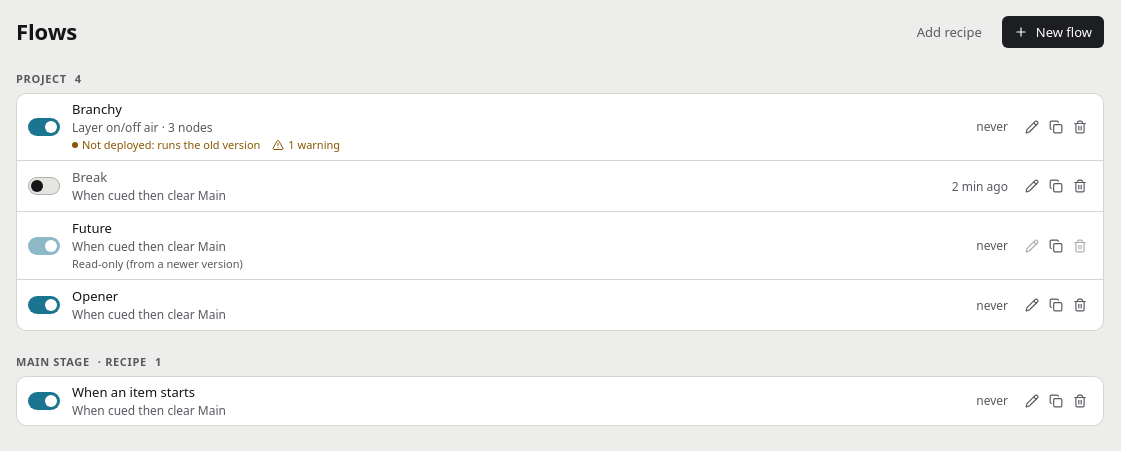
Test: /flows page › rename in place: Enter saves, Escape cancels
Click the button named "Rename Opener": (1032, 306) [1020,294,1044,318]
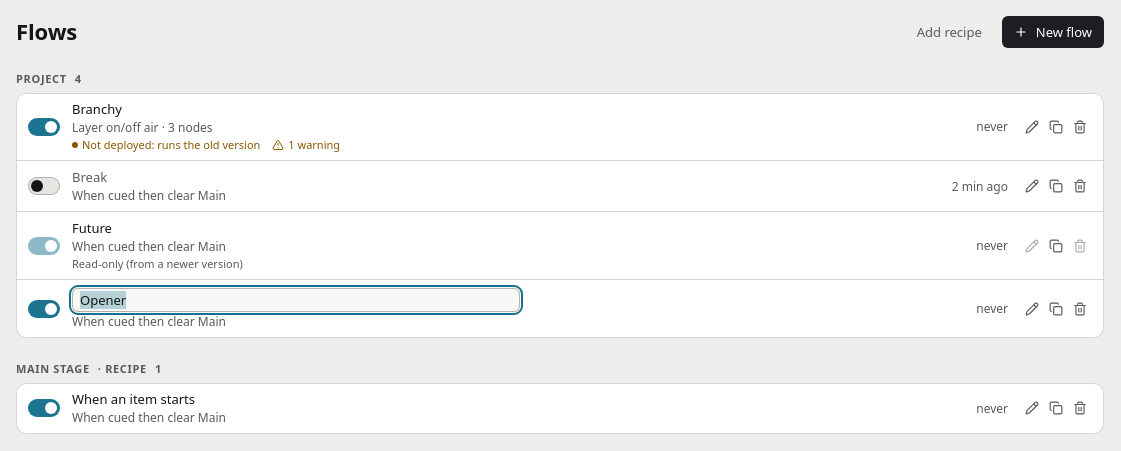
Replace the text in the field named "Name of Opener" with "Show opener": (296, 300) [72,288,520,312]
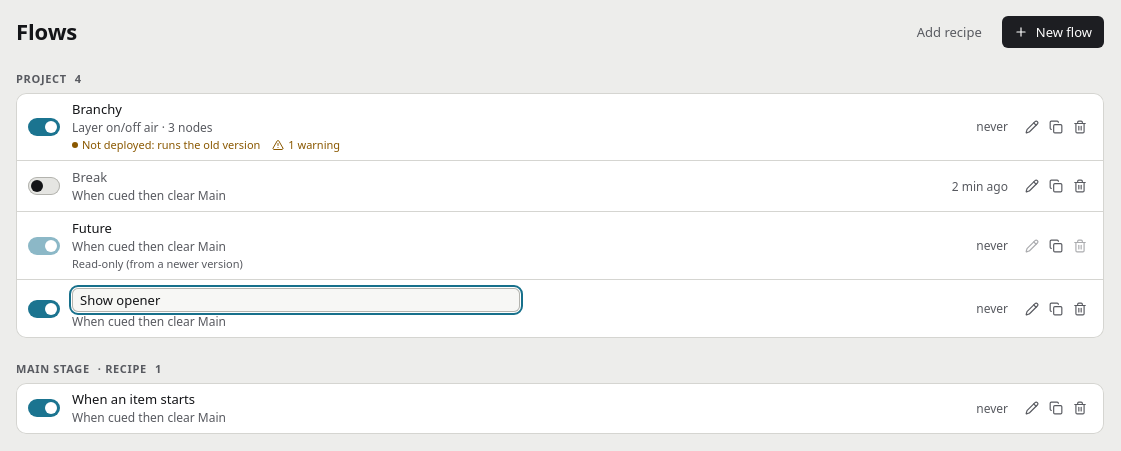
Press Enter in the field named "Name of Opener", box [72,288,520,312]
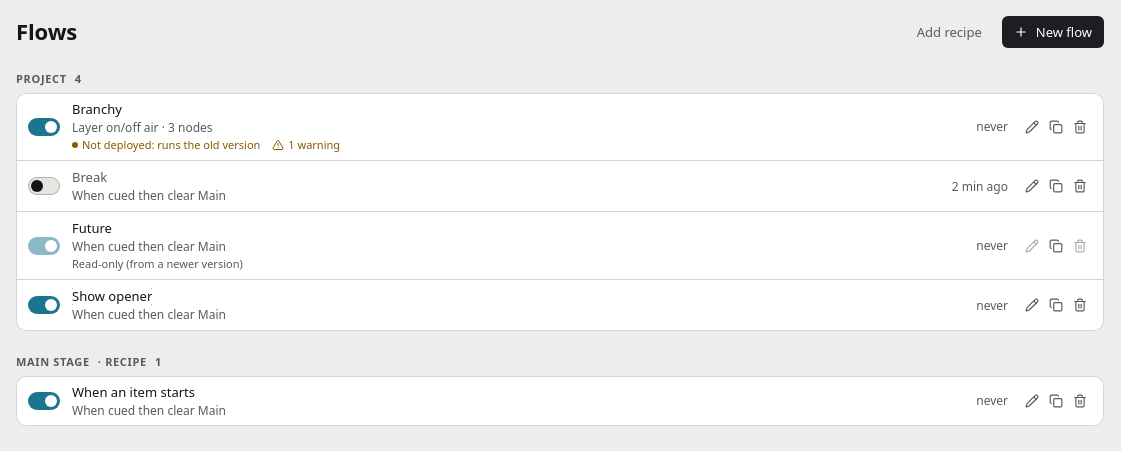
Expected: the link "Show opener" is shown, [72,288,152,305]
Click the button named "Rename Break": (1032, 186) [1020,174,1044,198]
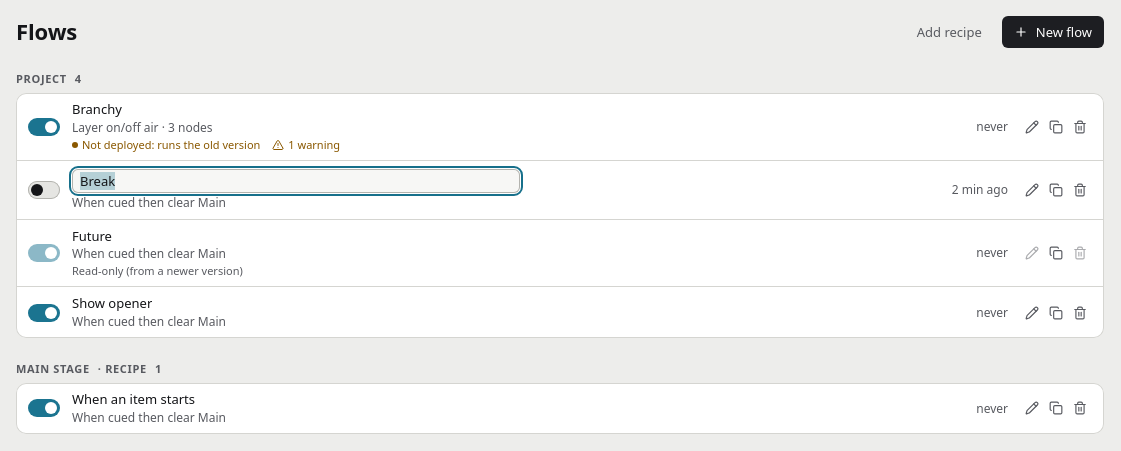
Replace the text in the field named "Name of Break" with "Nope": (296, 181) [72,169,520,193]
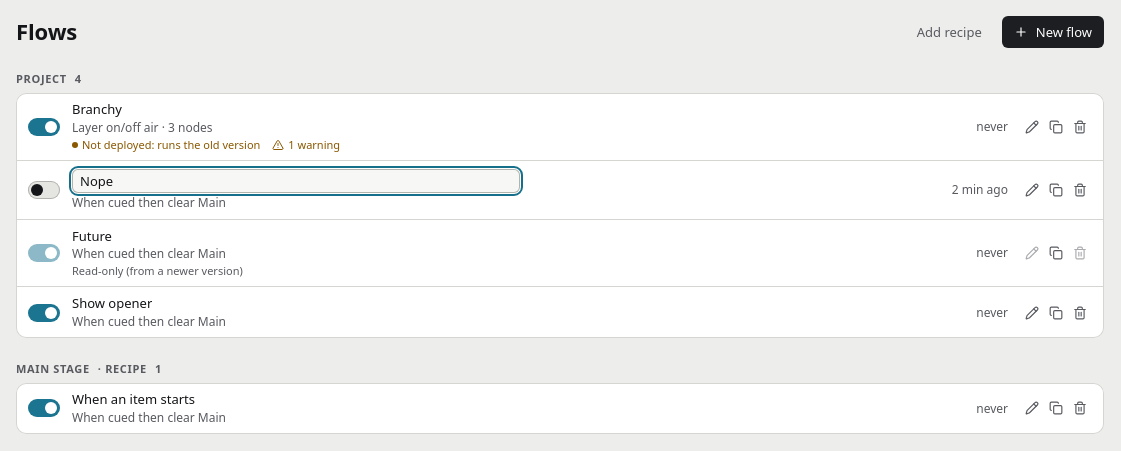
Press Escape in the field named "Name of Break", box [72,169,520,193]
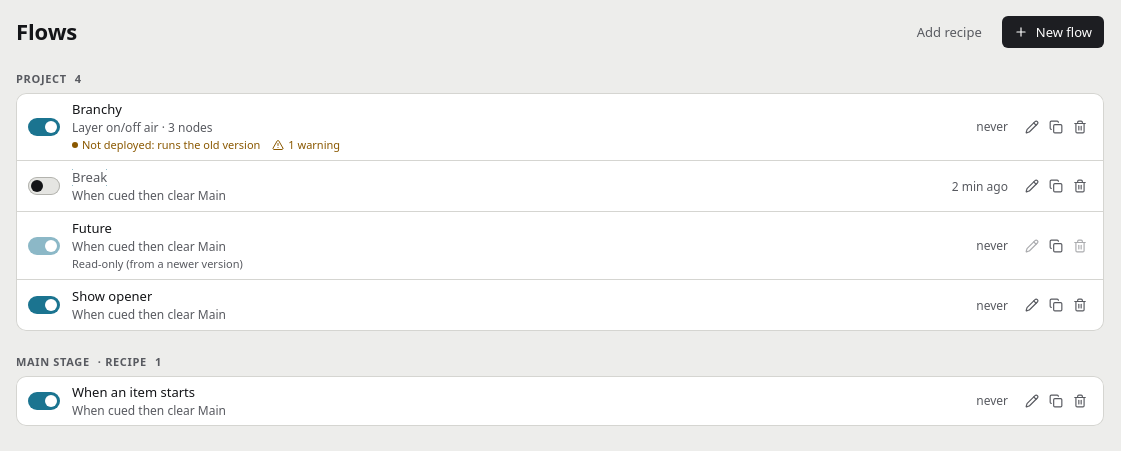
Expected: the link "Break" is shown, [72,169,107,186]
